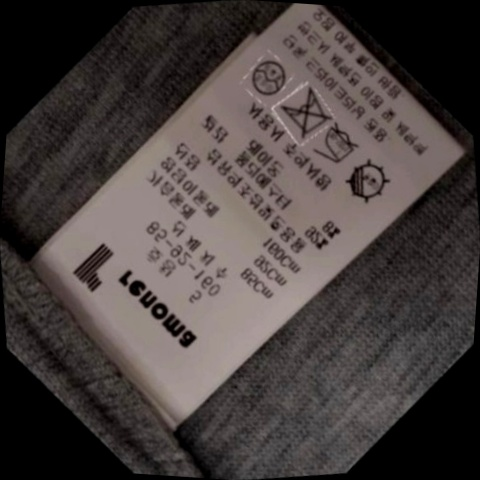DN_wash: (273, 86, 334, 140)
dry_clean_petrol_only: (243, 53, 291, 100)
iron_low: (310, 122, 364, 170)
line_dry_in_shade: (335, 157, 393, 207)
